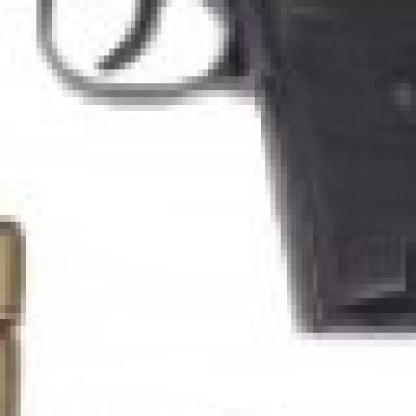gun: (0, 0, 412, 368)
